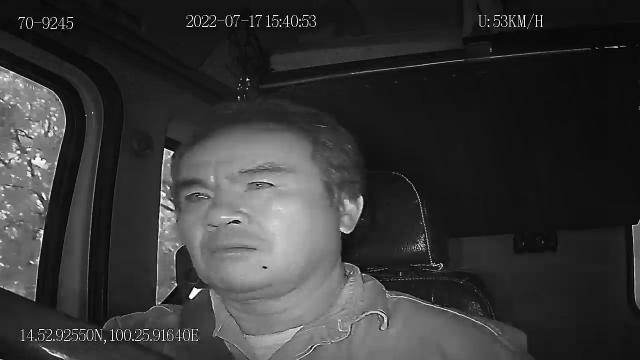SafeDriving: (236, 168, 288, 197), (178, 181, 218, 210)
Seatbelt: (178, 284, 238, 360)
